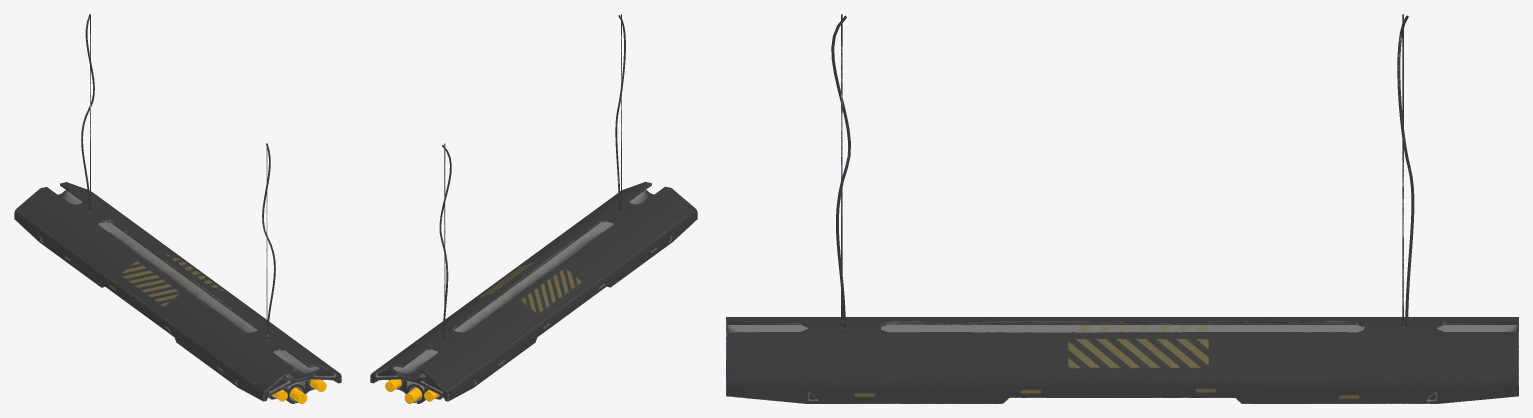
The model's file is b017-opt.glb.
3 views of the same model, side by side, from view 1: azimuth 30°, elevation 25°; view 2: azimuth 150°, elevation 25°; view 3: azimuth 270°, elevation 25° (orthographic). The views are drawn at different scales.
Visible parts, largest first — view 1: Box.017; view 2: Box.017; view 3: Box.017.
Boxes of the visible parts, x1=… form: Box.017: x1=14, y1=14, x2=341, y2=403; Box.017: x1=370, y1=14, x2=697, y2=403; Box.017: x1=726, y1=14, x2=1518, y2=403.
Size of the model in its own units: 0.6323 by 1.84 by 3.5.
Materials: 1 (1 with a texture image).
